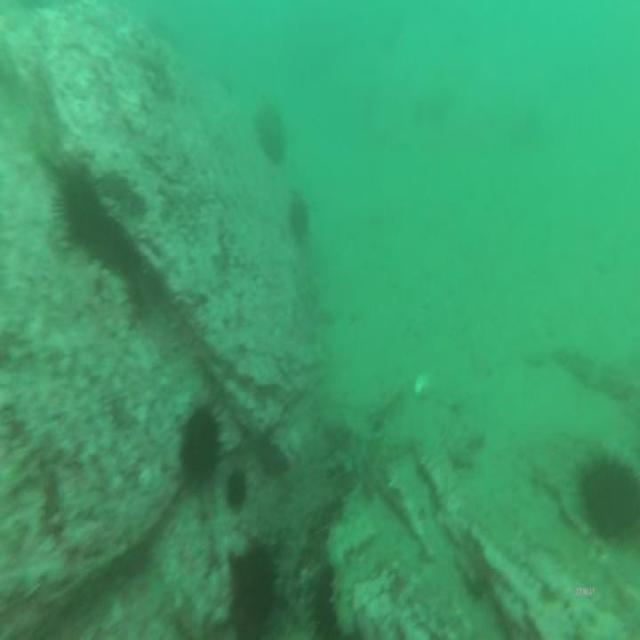echinus: (570, 437, 640, 551), (222, 539, 283, 640), (51, 152, 108, 259), (176, 394, 224, 486), (254, 98, 290, 171), (306, 567, 338, 640), (288, 187, 313, 248), (225, 460, 249, 517)
